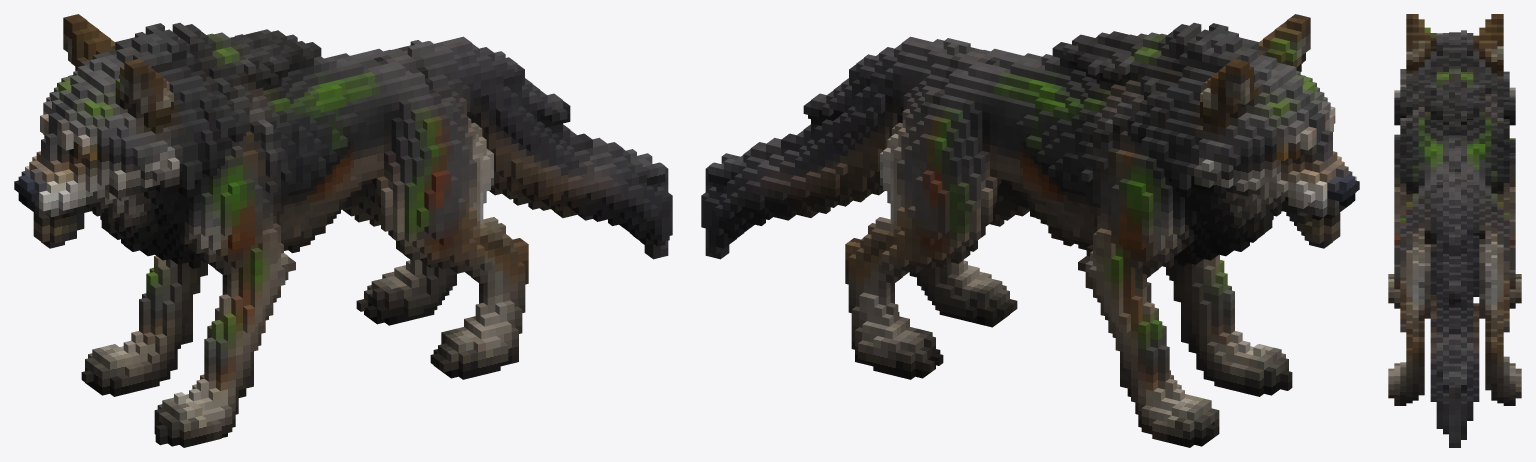
File: u_rodeur.glb
The picture shows the model from 3 angles, left to right: view 1: azimuth 30°, elevation 25°; view 2: azimuth 150°, elevation 25°; view 3: azimuth 270°, elevation 25°; orthographic projection. The views are drawn at different scales.
Visible parts, largest first — view 1: rodeur_body; view 2: rodeur_body; view 3: rodeur_body.
Boxes of the visible parts, bbox=[...] form: rodeur_body: bbox=[14, 14, 672, 447]; rodeur_body: bbox=[701, 14, 1359, 447]; rodeur_body: bbox=[1388, 14, 1521, 447].
Size of the model in its own units: 2.52 by 1.45 by 0.6531.
1 material, 1 textured.
